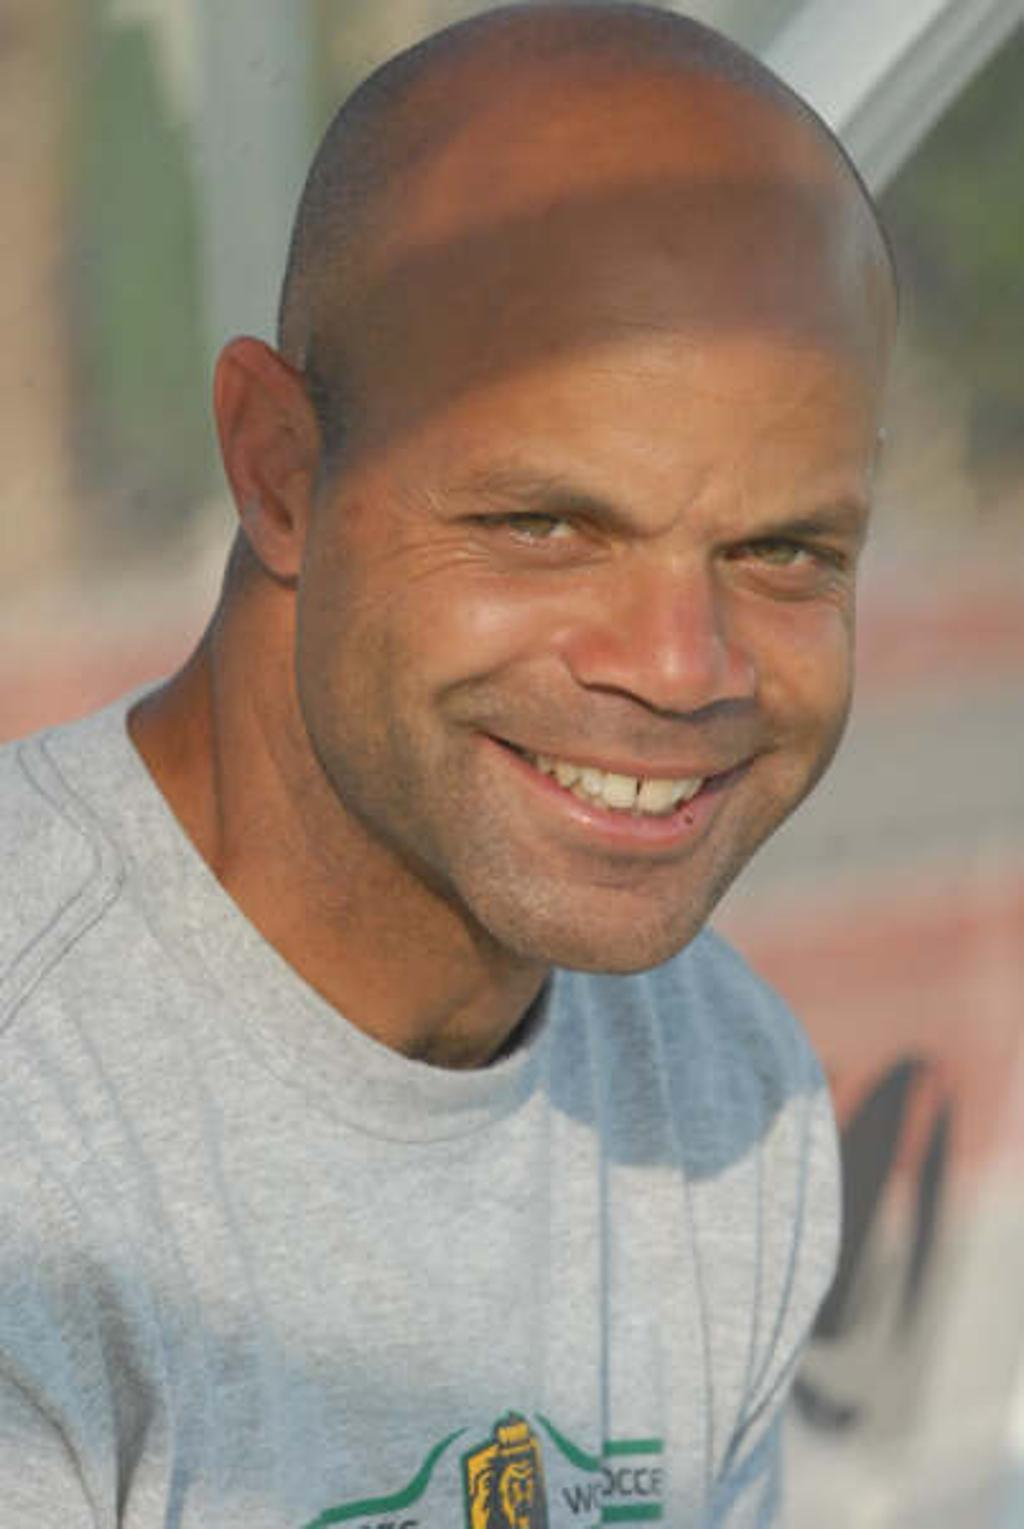face: (306, 153, 888, 974)
